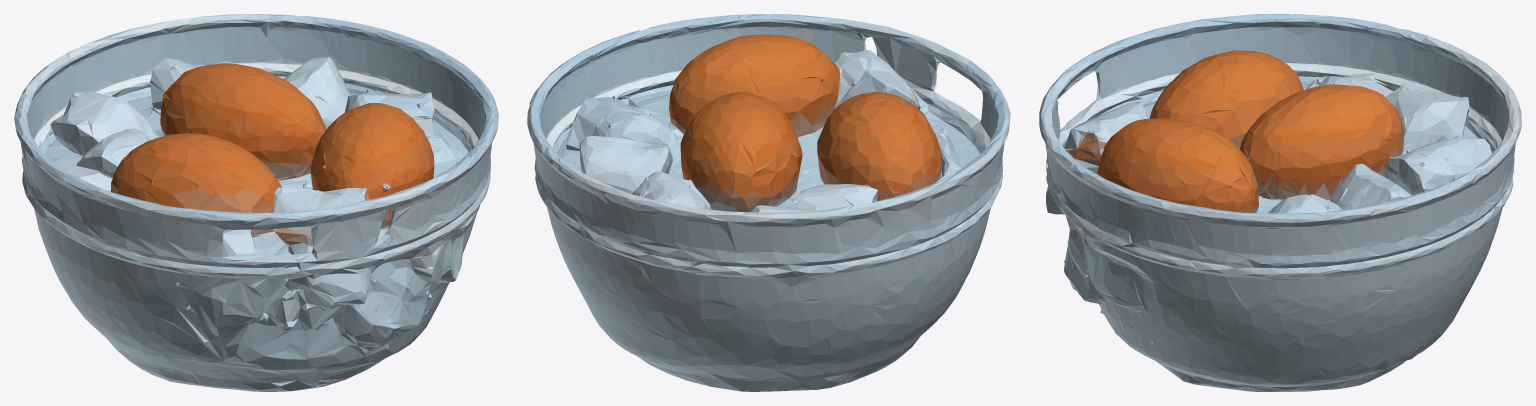
The model's file is ice_bath.glb.
The picture shows the model from 3 angles, left to right: view 1: azimuth 30°, elevation 25°; view 2: azimuth 150°, elevation 25°; view 3: azimuth 270°, elevation 25°; orthographic projection.
Parts seen in each view (by area): view 1: geometry_0; view 2: geometry_0; view 3: geometry_0.
Part boxes in pixels (bbox=[...]): geometry_0: bbox=[14, 14, 498, 391]; geometry_0: bbox=[527, 14, 1010, 391]; geometry_0: bbox=[1039, 14, 1521, 391].
Bounding box in the file's own units: 0.18 × 0.0997 × 0.1794.
1 material, 1 textured.
